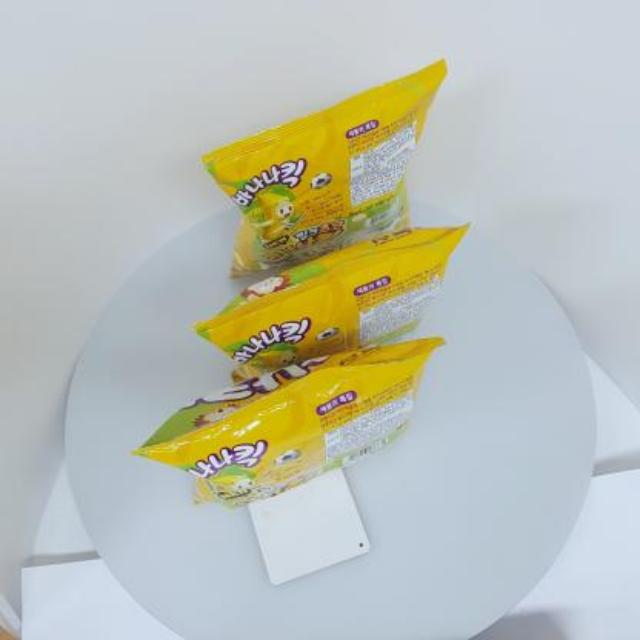snack_bag: (120, 49, 484, 516)
